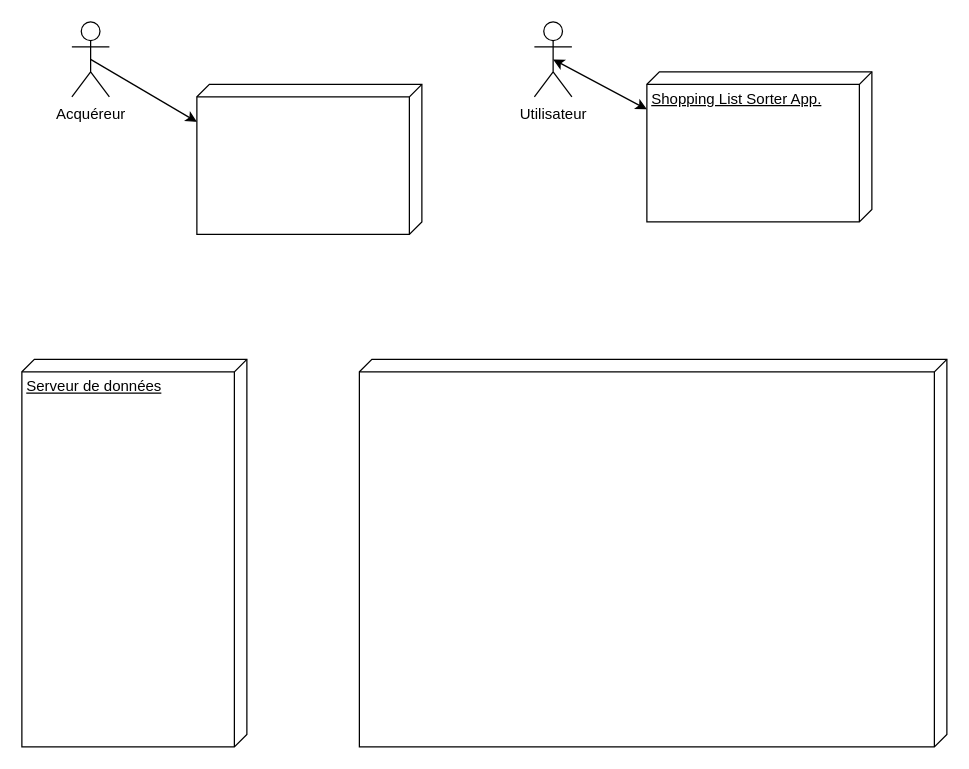
Some shapes in this 969 by 769 pixel diagram are drawn without their labels. The shapes that lost their labels are listed below. From the top down, each one's box as (x1, y1, x2, y2) in pixels, then its label:
(196, 83, 422, 234): Application de collecte
(358, 358, 947, 747): Serveur de
